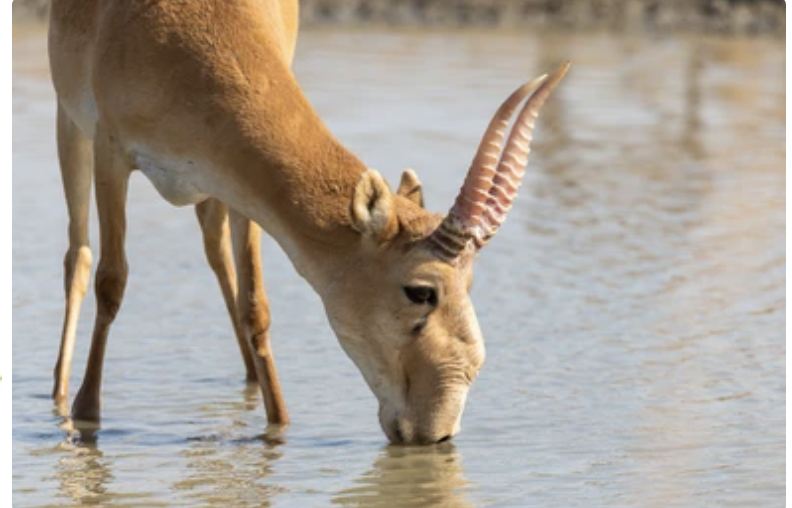saiga: (39, 2, 562, 474)
